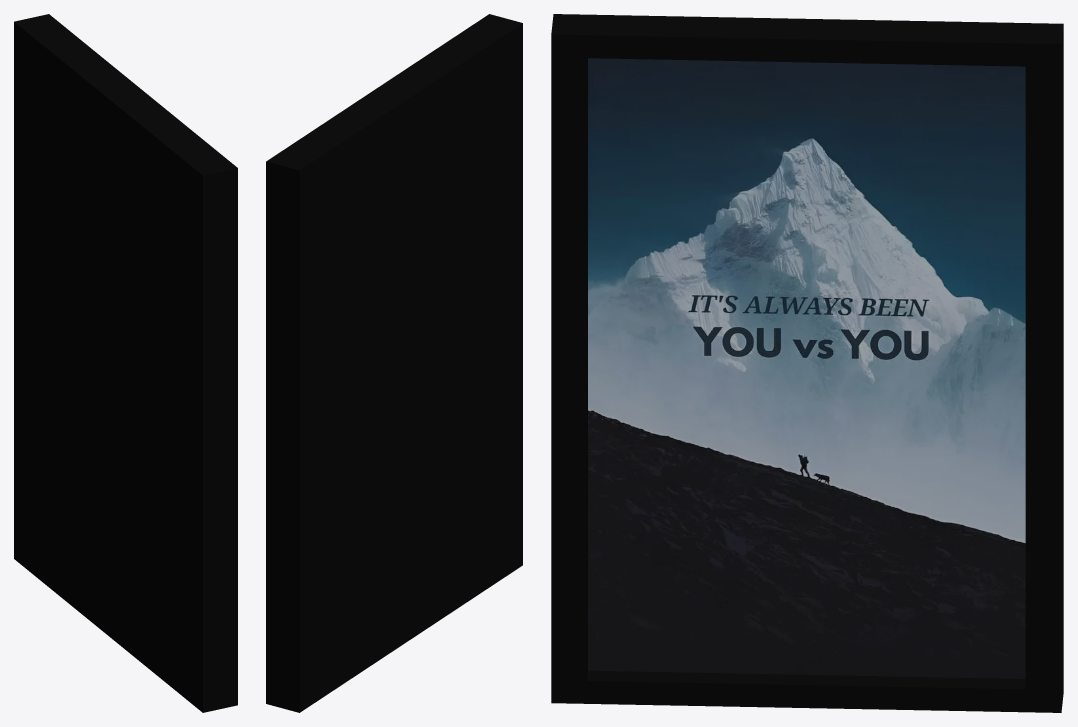
The model's file is u_vs_u-DZHMm80M.glb.
3 views of the same model, side by side, from view 1: azimuth 30°, elevation 25°; view 2: azimuth 150°, elevation 25°; view 3: azimuth 270°, elevation 25° (orthographic). The views are drawn at different scales.
Visible parts, largest first — view 1: StudyShelf_2367; view 2: StudyShelf_2367; view 3: StudyShelf_2367.
Part boxes in pixels (x1,y1,x2,y2): StudyShelf_2367: (14, 14, 237, 712); StudyShelf_2367: (266, 14, 522, 712); StudyShelf_2367: (551, 14, 1063, 712).
Size of the model in its own units: 9.71 by 99.35 by 69.01.
2 materials, 1 textured.
